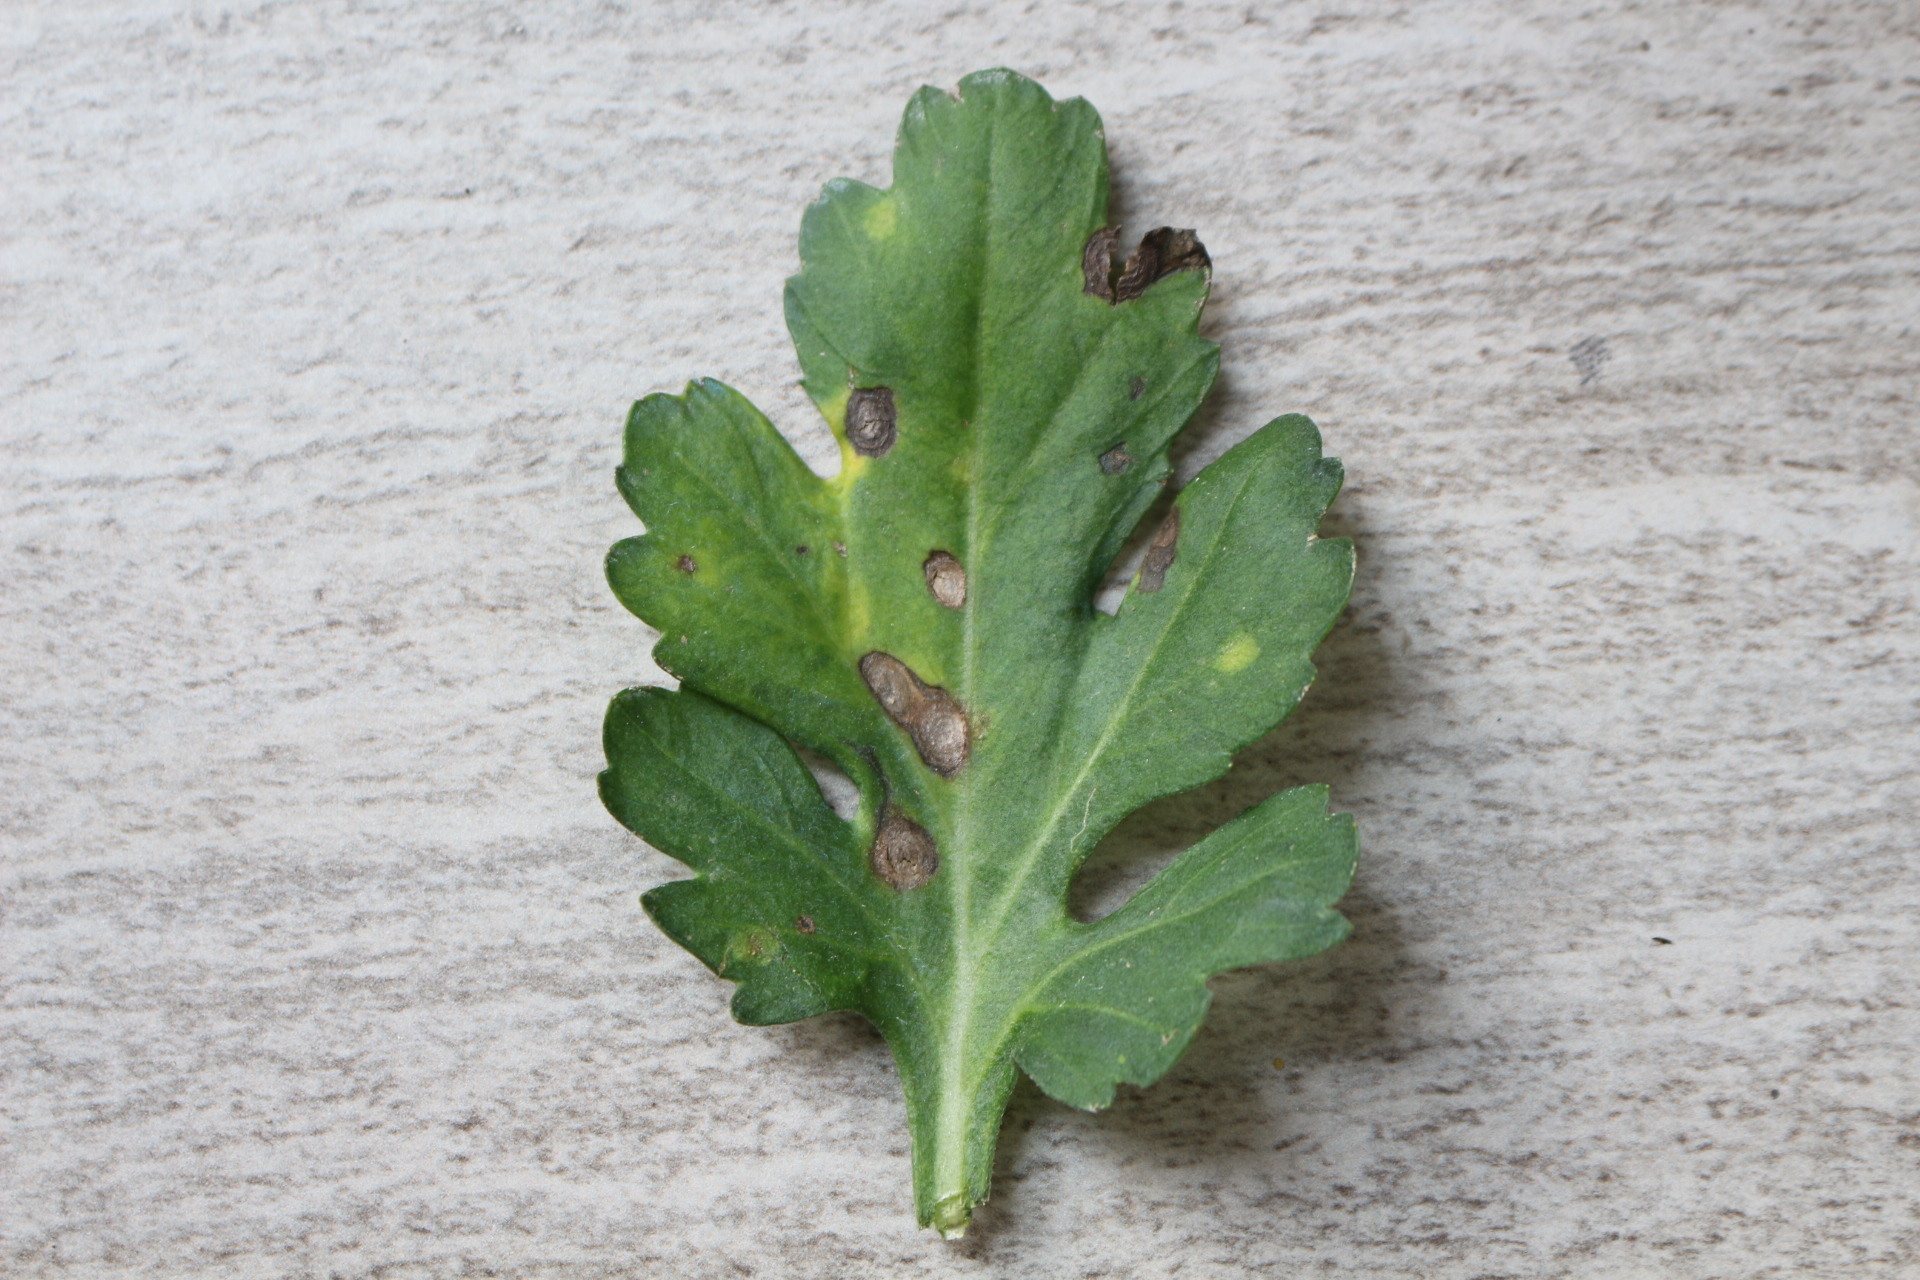namden: (863, 650, 979, 774), (864, 804, 946, 890), (839, 381, 909, 461), (914, 540, 979, 616)
namsung: (1204, 619, 1266, 677), (854, 194, 909, 241)
